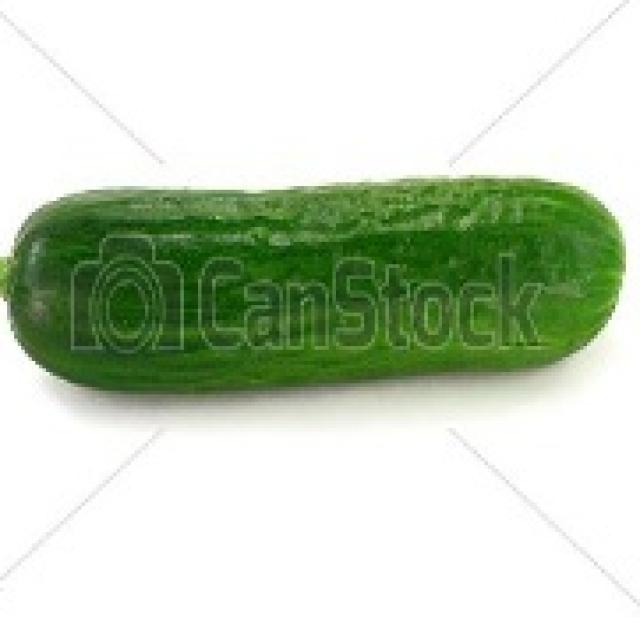cucumber: (14, 171, 608, 387)
